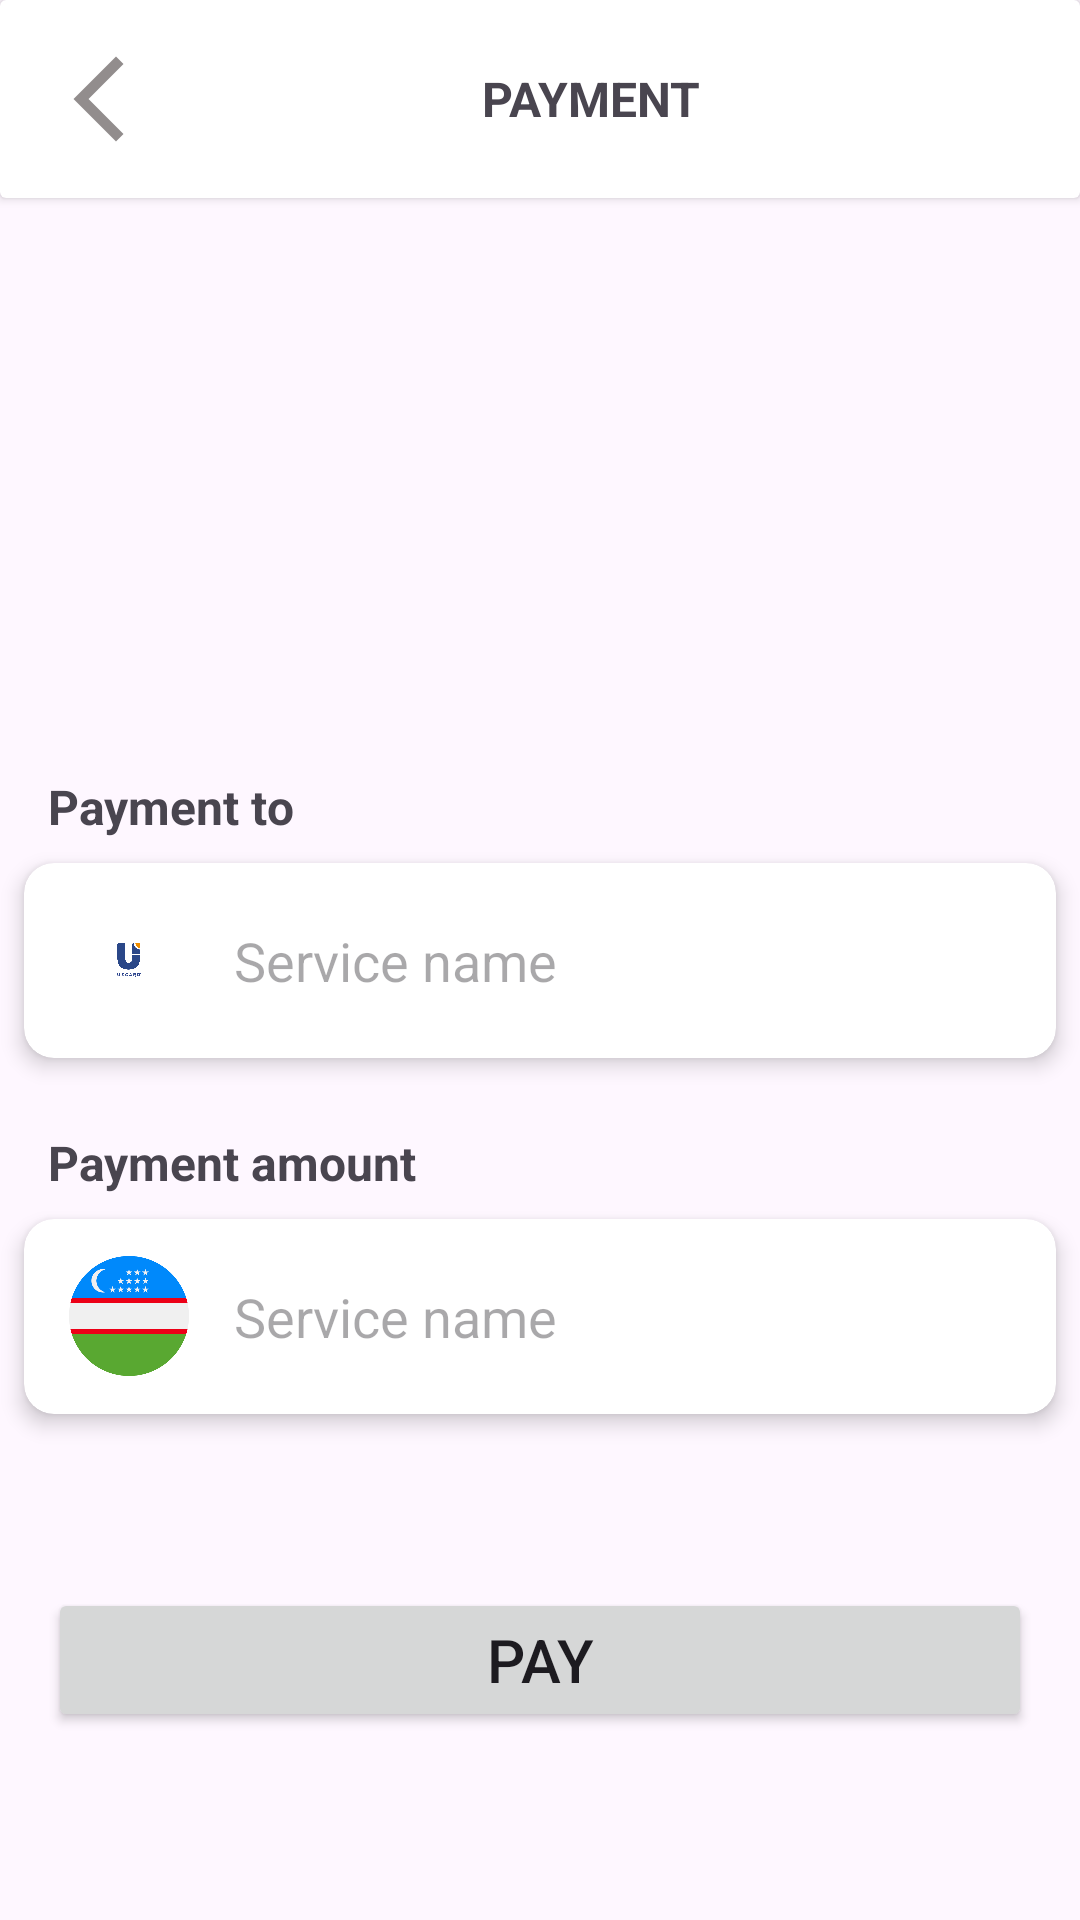

Icons on this 1080x1920 Android screen, each with its box as (x1, y1, x2, y2):
arrow back: (74, 57, 123, 141)
flag uzb: (70, 1256, 188, 1376)
